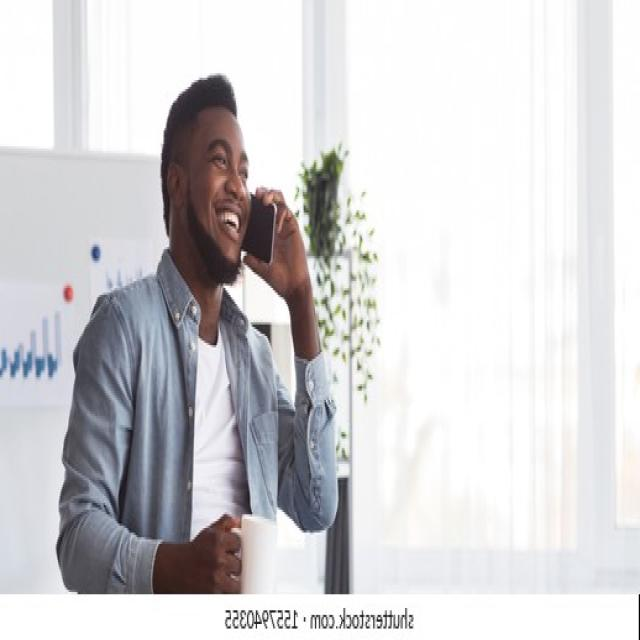phone: (240, 196, 278, 267)
